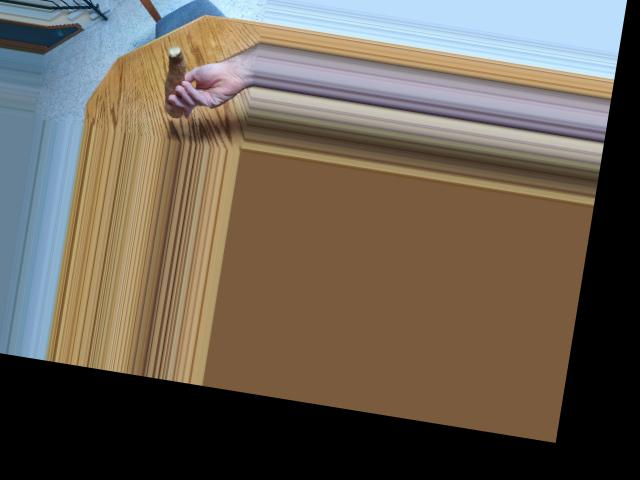sweet_potato: (159, 39, 193, 118)
